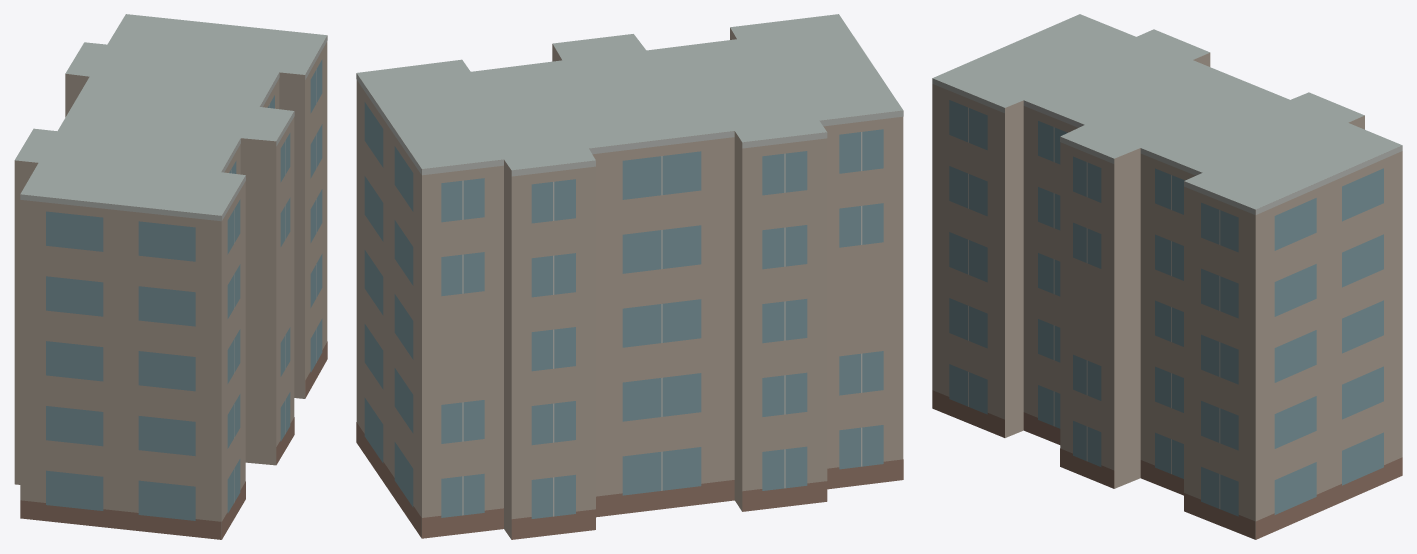
File: survey-upis-32889546.glb
The picture shows the model from 3 angles, left to right: view 1: azimuth 30°, elevation 25°; view 2: azimuth 150°, elevation 25°; view 3: azimuth 270°, elevation 25°; orthographic projection. The views are drawn at different scales.
Visible parts, largest first — view 1: survey-upis-32889546.tmp; view 2: survey-upis-32889546.tmp; view 3: survey-upis-32889546.tmp.
Part boxes in pixels (x1,y1,x2,y2): survey-upis-32889546.tmp: [14, 14, 327, 539]; survey-upis-32889546.tmp: [356, 14, 903, 539]; survey-upis-32889546.tmp: [932, 14, 1402, 539].
Size of the model in its own units: 18.43 by 14.5 by 18.73.
